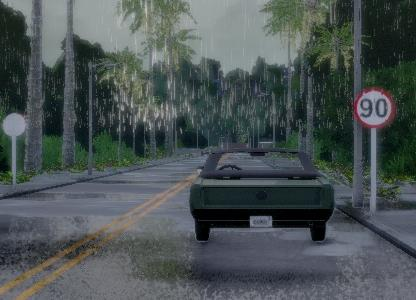Speed_90: (351, 81, 396, 134)
